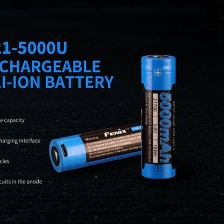battery: (46, 119, 172, 174), (138, 52, 178, 180)
